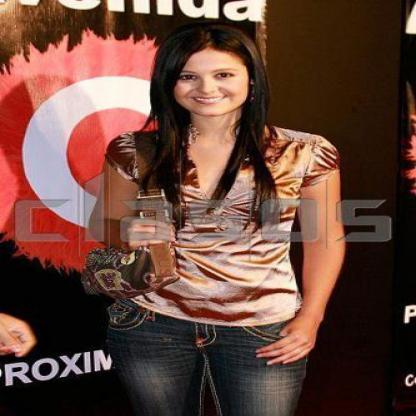long-hair: (148, 115, 272, 143)
